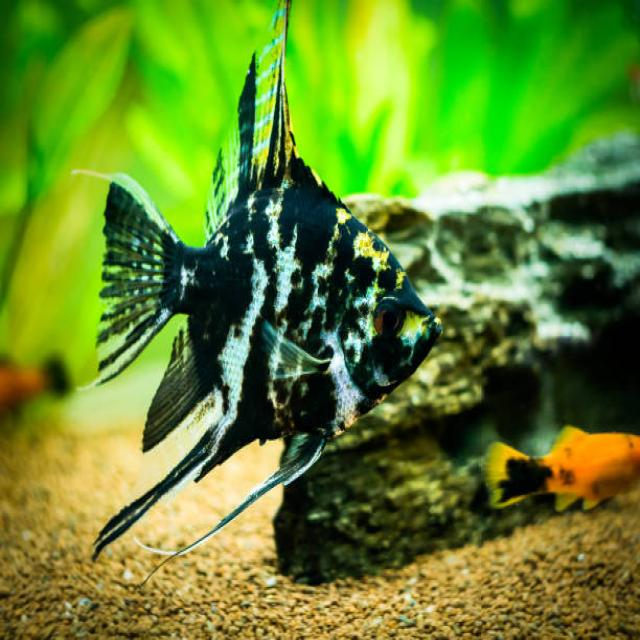AngelFish: (91, 5, 444, 559)
